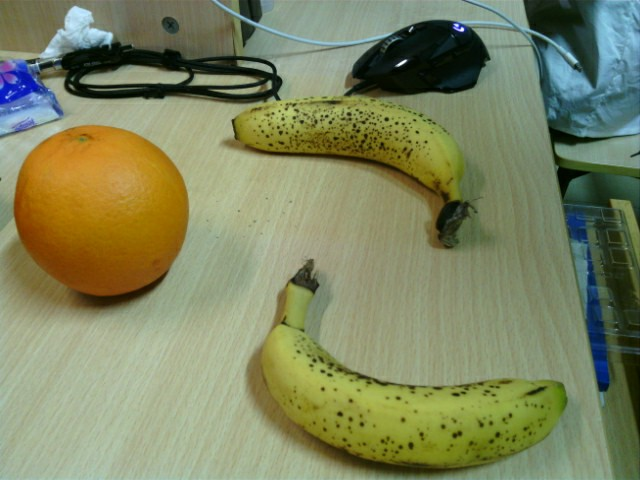normal_banana: (259, 258, 568, 470), (230, 96, 476, 252)
normal_orange: (15, 125, 189, 297)
